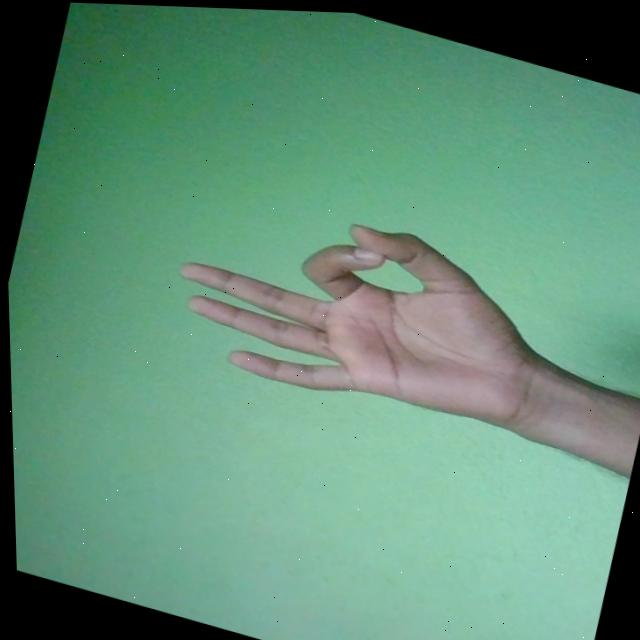Ok: (156, 170, 566, 448)
